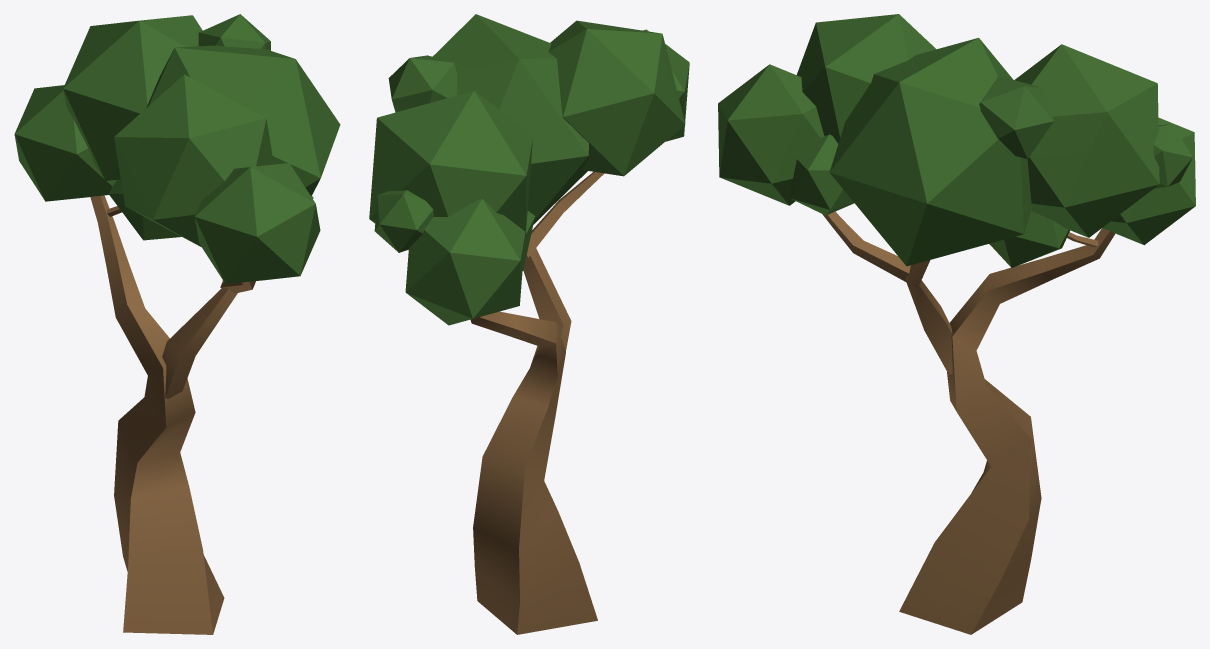
The model's file is Arbre_04.fbx.
3 views of the same model, side by side, from view 1: azimuth 30°, elevation 25°; view 2: azimuth 150°, elevation 25°; view 3: azimuth 270°, elevation 25° (orthographic). The views are drawn at different scales.
Parts seen in each view (by area): view 1: Arbre_04; view 2: Arbre_04; view 3: Arbre_04.
Boxes of the visible parts, bbox=[...] form: Arbre_04: bbox=[14, 14, 340, 634]; Arbre_04: bbox=[369, 14, 689, 634]; Arbre_04: bbox=[718, 14, 1195, 634].
Bounding box in the file's own units: 232 × 527 × 392.
1 material, 1 textured.
